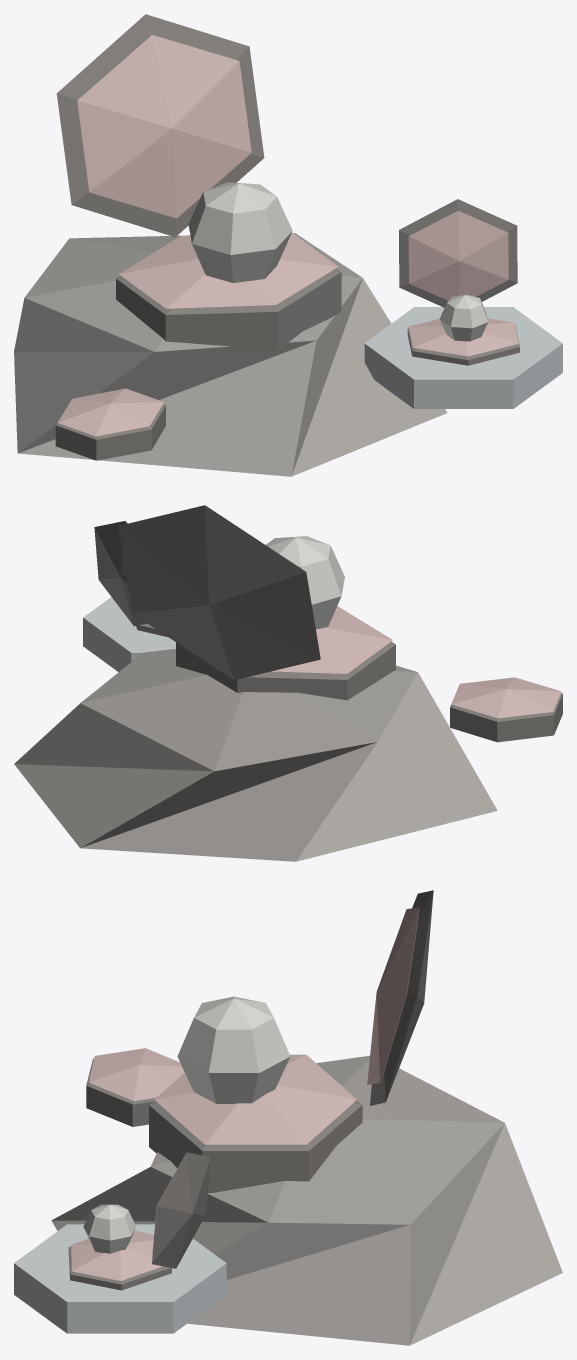
The model's file is pearls.glb.
The picture shows the model from 3 angles, top to bottom: view 1: azimuth 30°, elevation 25°; view 2: azimuth 150°, elevation 25°; view 3: azimuth 270°, elevation 25°; orthographic projection. The views are drawn at different scales.
Parts seen in each view (by area): view 1: LOD0; view 2: LOD0; view 3: LOD0.
Boxes of the visible parts, bbox=[...] form: LOD0: bbox=[14, 14, 562, 476]; LOD0: bbox=[14, 505, 562, 861]; LOD0: bbox=[14, 890, 562, 1345].
Size of what is drawn, in the model's own units: 0.6017 by 0.3964 by 0.5678.
